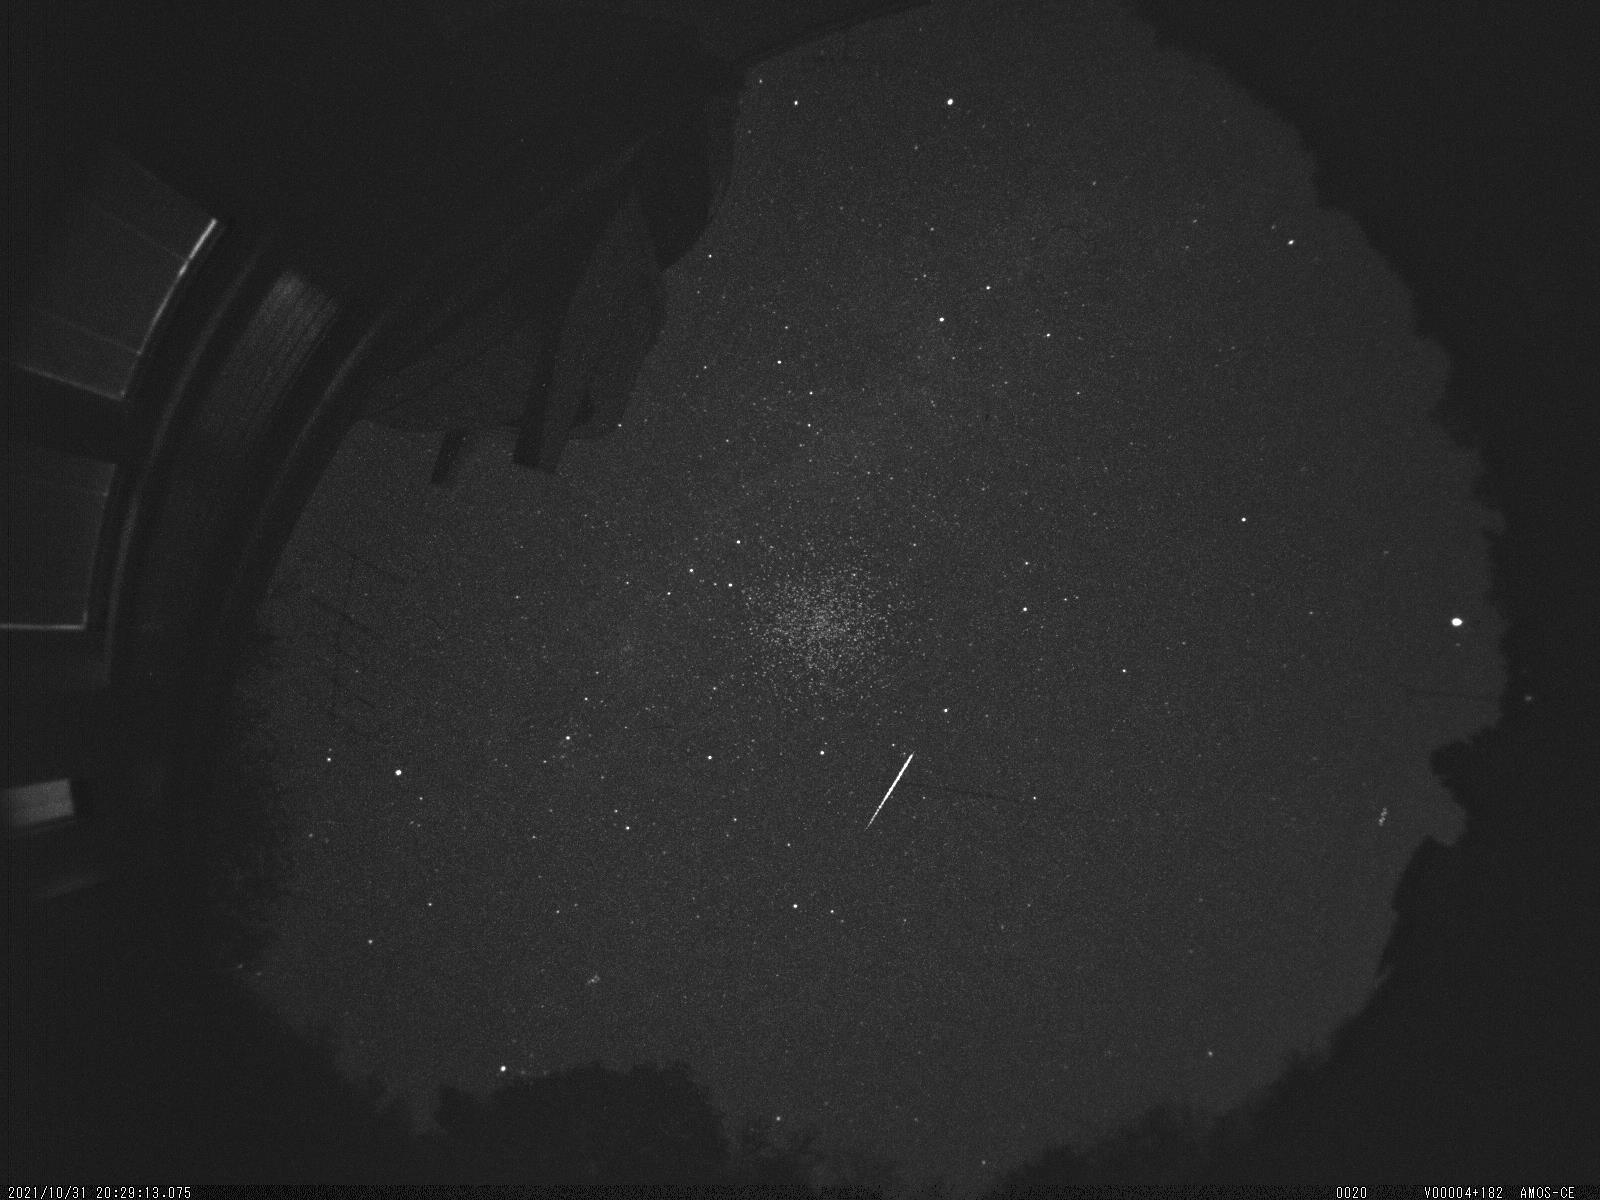Meteor: (861, 742, 924, 834)
